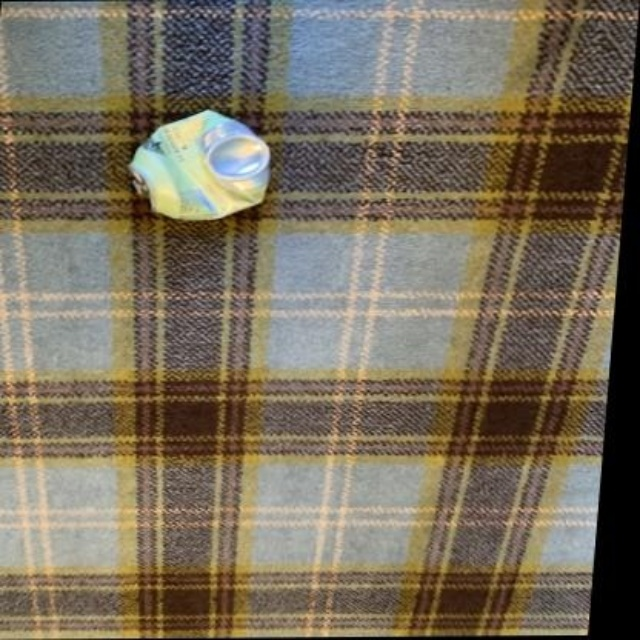trash: (129, 111, 269, 218)
